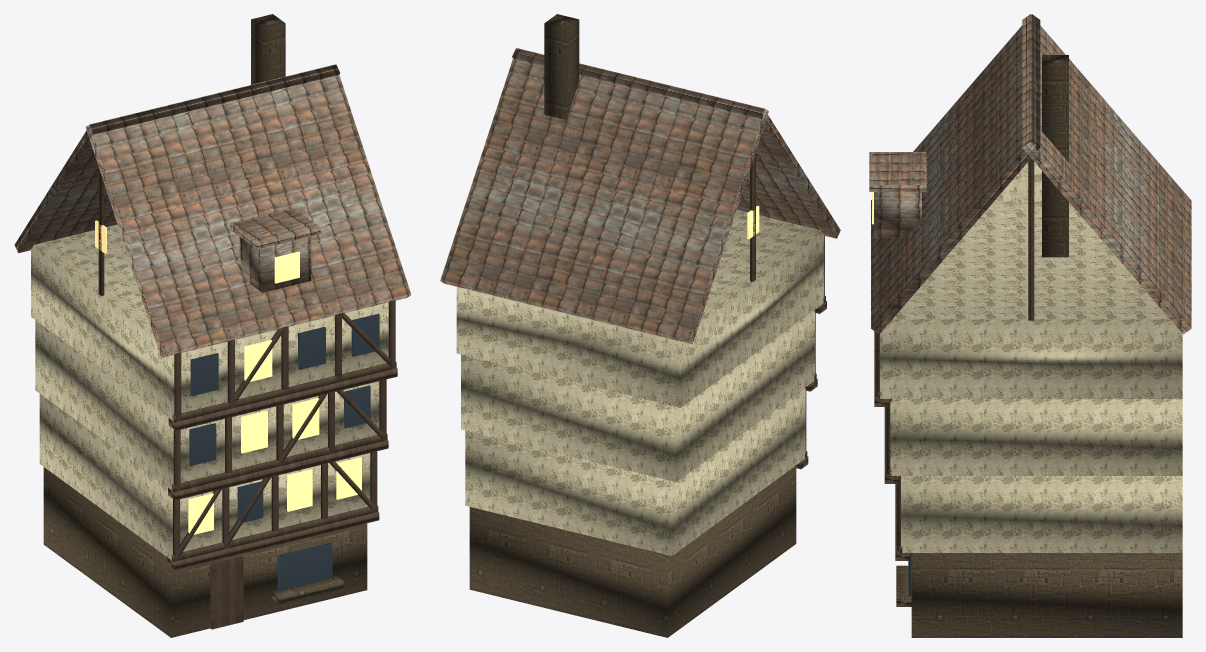
File: house_1.glb
The picture shows the model from 3 angles, left to right: view 1: azimuth 30°, elevation 25°; view 2: azimuth 150°, elevation 25°; view 3: azimuth 270°, elevation 25°; orthographic projection. The views are drawn at different scales.
Parts seen in each view (by area): view 1: house_1; view 2: house_1; view 3: house_1.
Part boxes in pixels (bbox=[...]): house_1: bbox=[14, 14, 411, 637]; house_1: bbox=[440, 14, 840, 637]; house_1: bbox=[869, 14, 1191, 637].
Size of the model in its own units: 10.05 by 20.54 by 10.7.
Materials: 6 (4 with a texture image).
